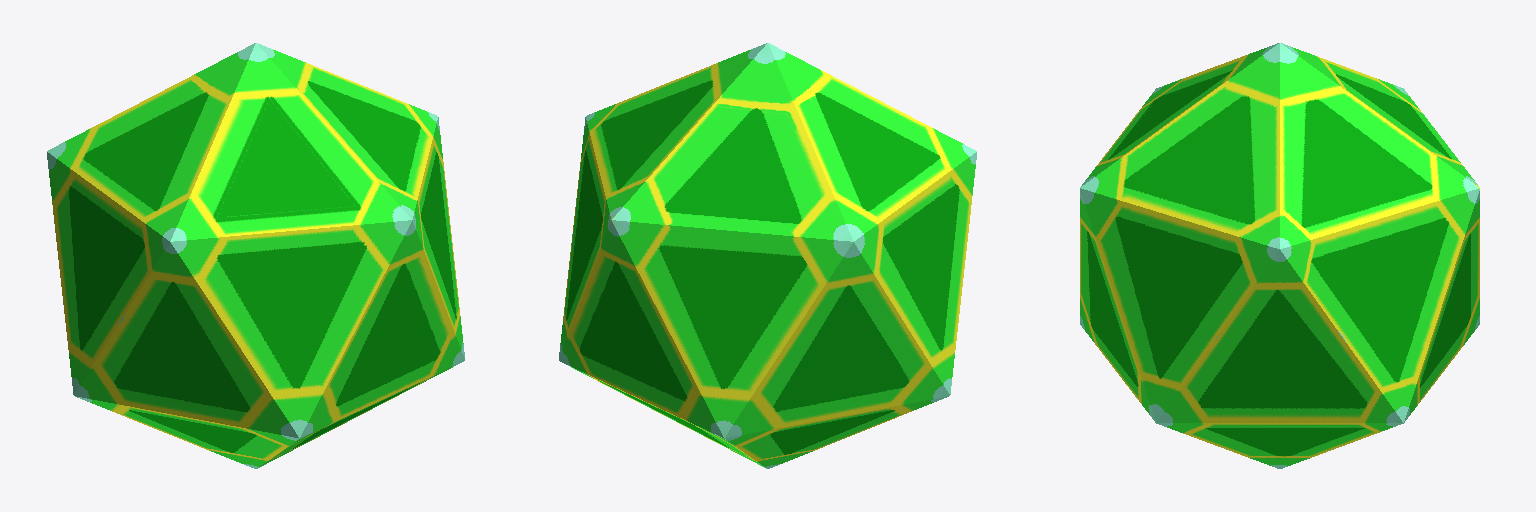
3 renders of one model, left to right at view 1: azimuth 30°, elevation 25°; view 2: azimuth 150°, elevation 25°; view 3: azimuth 270°, elevation 25°, orthographic.
Parts seen in each view (by area): view 1: ICO球; view 2: ICO球; view 3: ICO球.
Part boxes in pixels (left/top/right/bottom): ICO球: left=47, top=43, right=464, bottom=468; ICO球: left=559, top=43, right=976, bottom=468; ICO球: left=1080, top=43, right=1479, bottom=468.
Size of the model in its own units: 1.79 by 2 by 1.7.
1 materials, 1 textured.